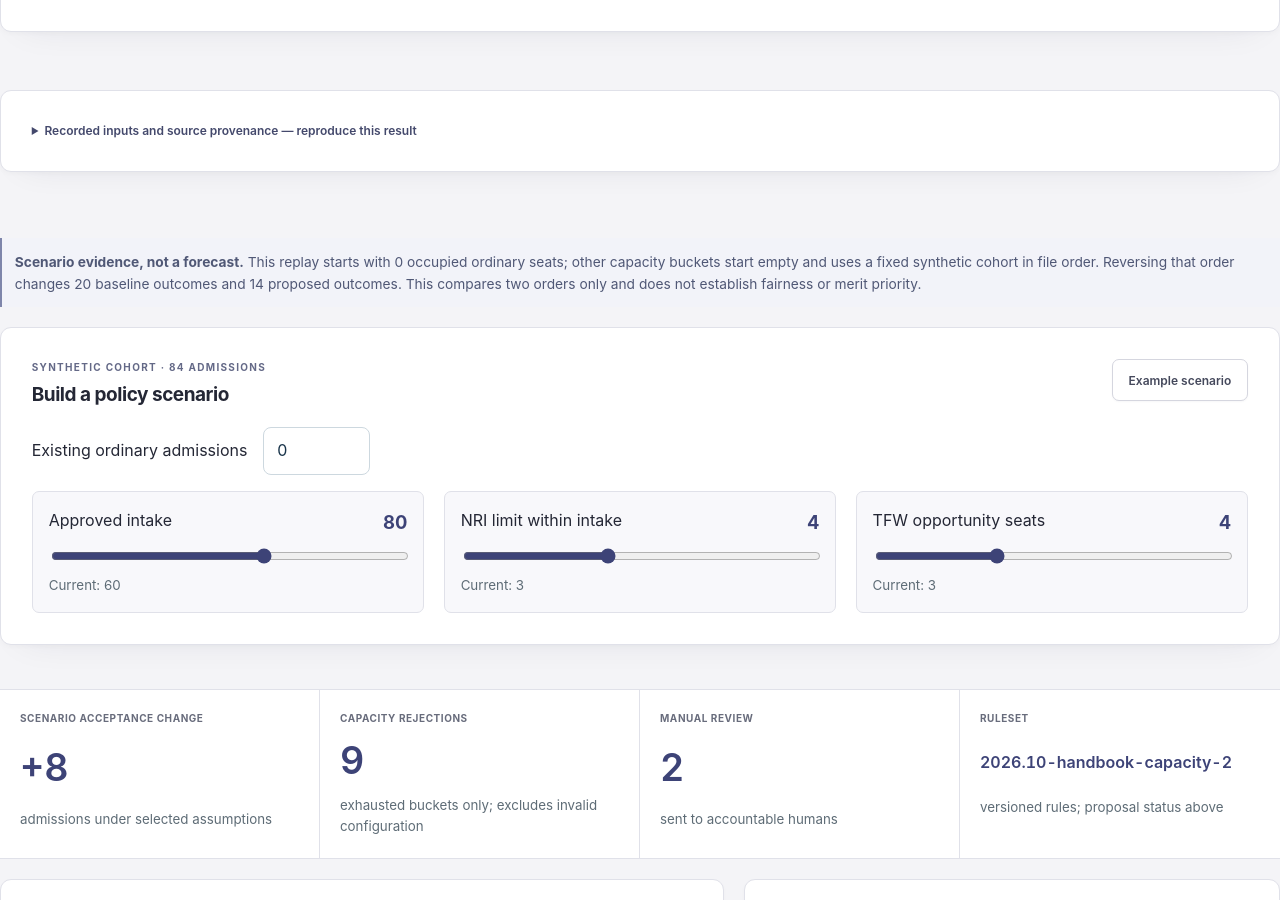
Test case: PolicyTwinWorkspace › models occupied seats and labels order sensitivity without claiming a forecast
(page scrolled)
Replace the text in the number field labelled "Existing ordinary admissions" with "60": (317, 451) top-left (263, 427), bottom-right (370, 475)
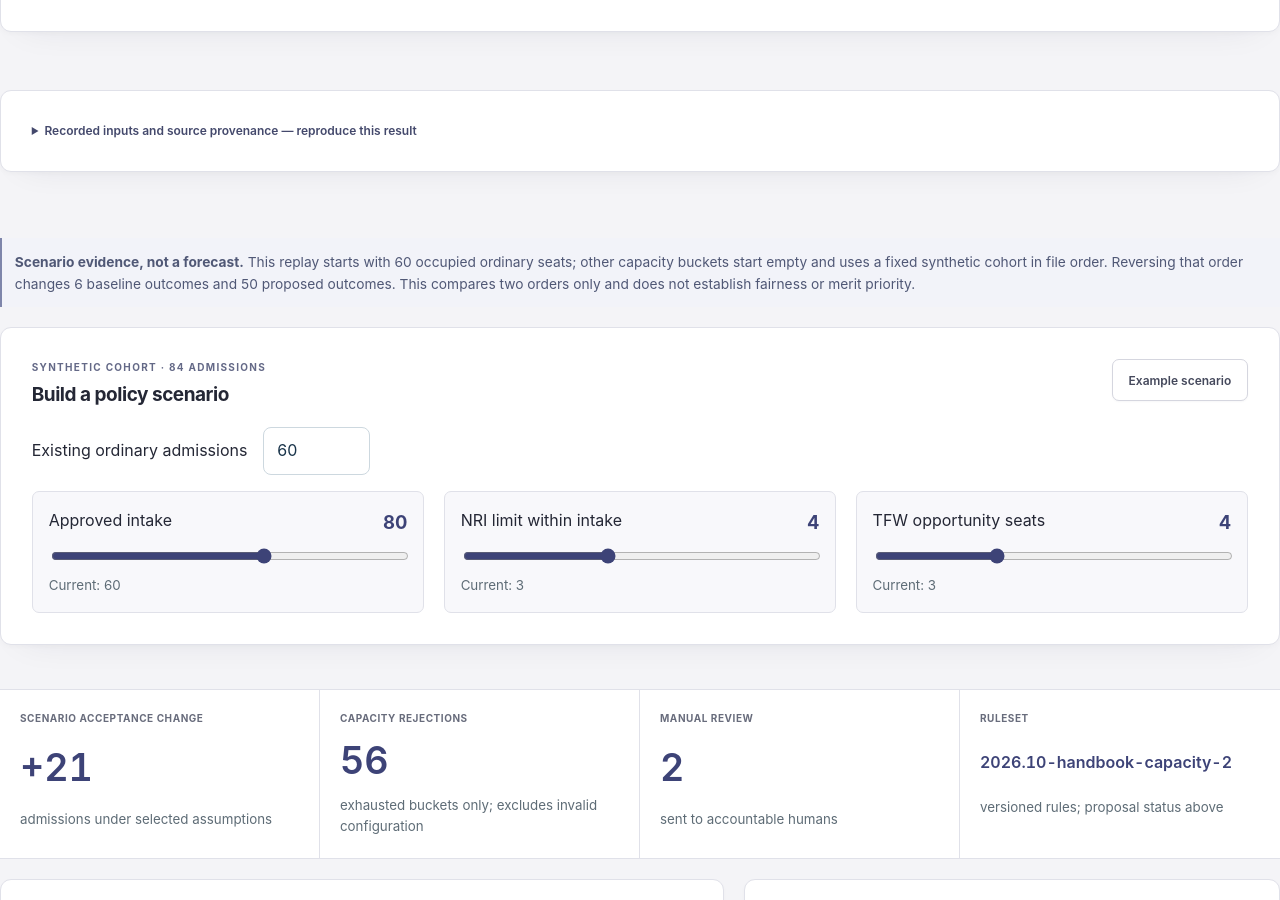
Expected: the element named "Simulation assumptions" shows "not a forecast", top-left (15, 254), bottom-right (244, 270)
Now the element named "Simulation assumptions" shows "60 occupied ordinary seats", box top-left (0, 238), bottom-right (1279, 308)
Click the button "Example scenario": (1180, 380) top-left (1112, 359), bottom-right (1248, 401)
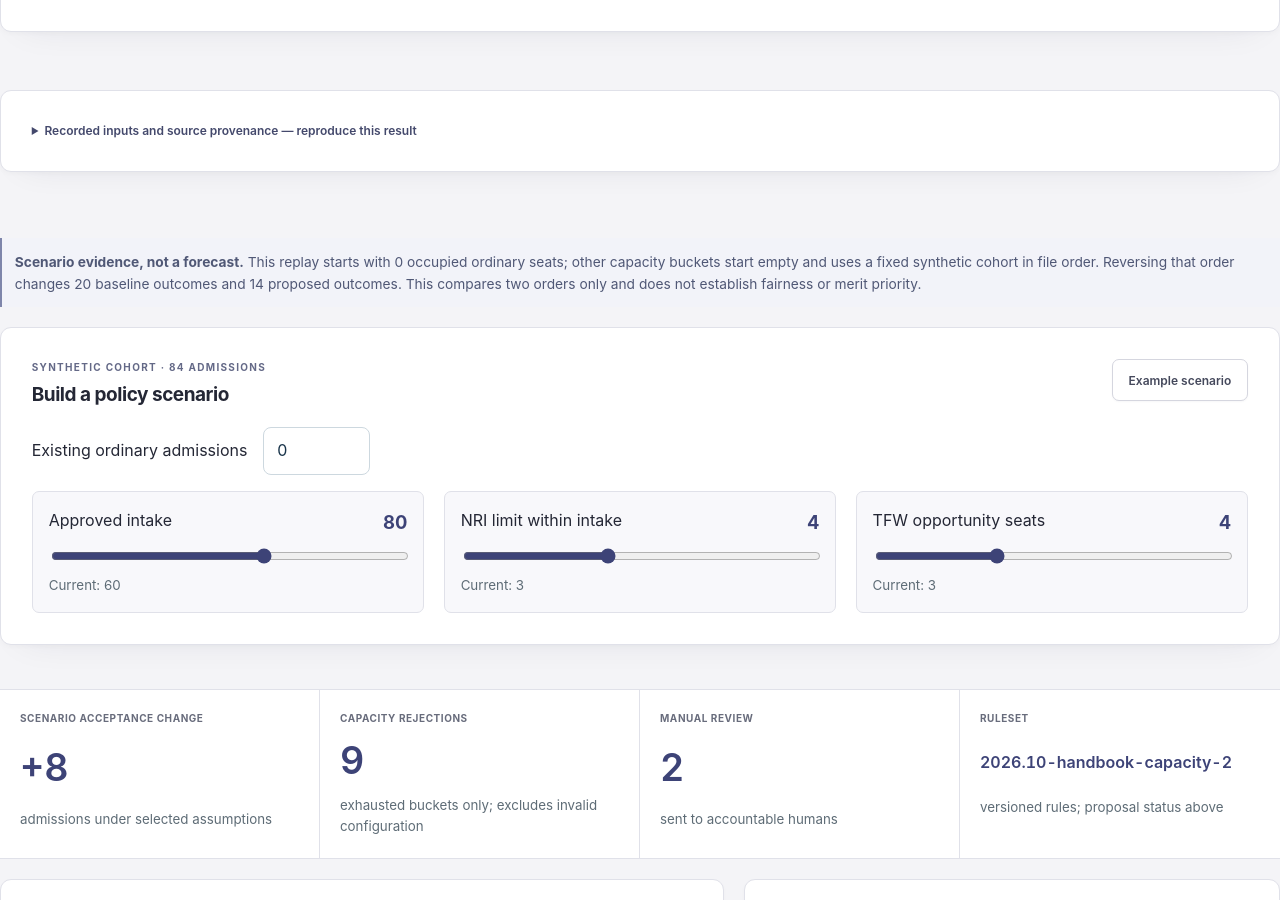
Now the number field labelled "Existing ordinary admissions" holds "0", box top-left (263, 427), bottom-right (370, 475)
